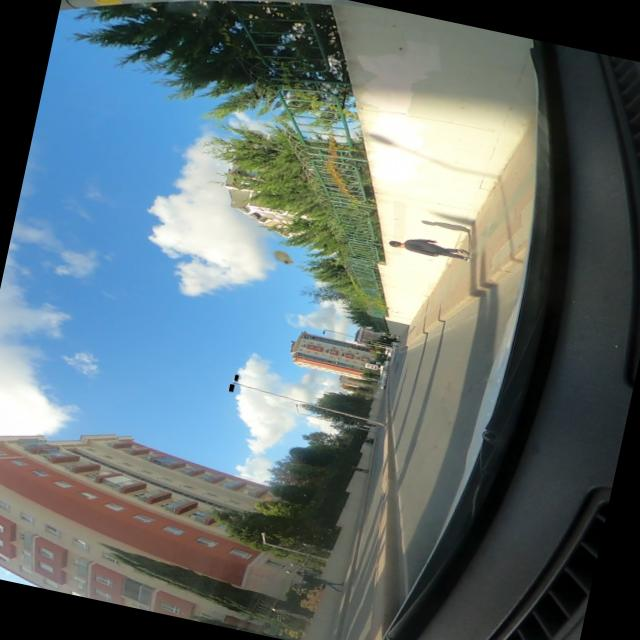SignStore: (232, 381, 386, 425), (229, 383, 234, 390), (235, 374, 238, 380)
